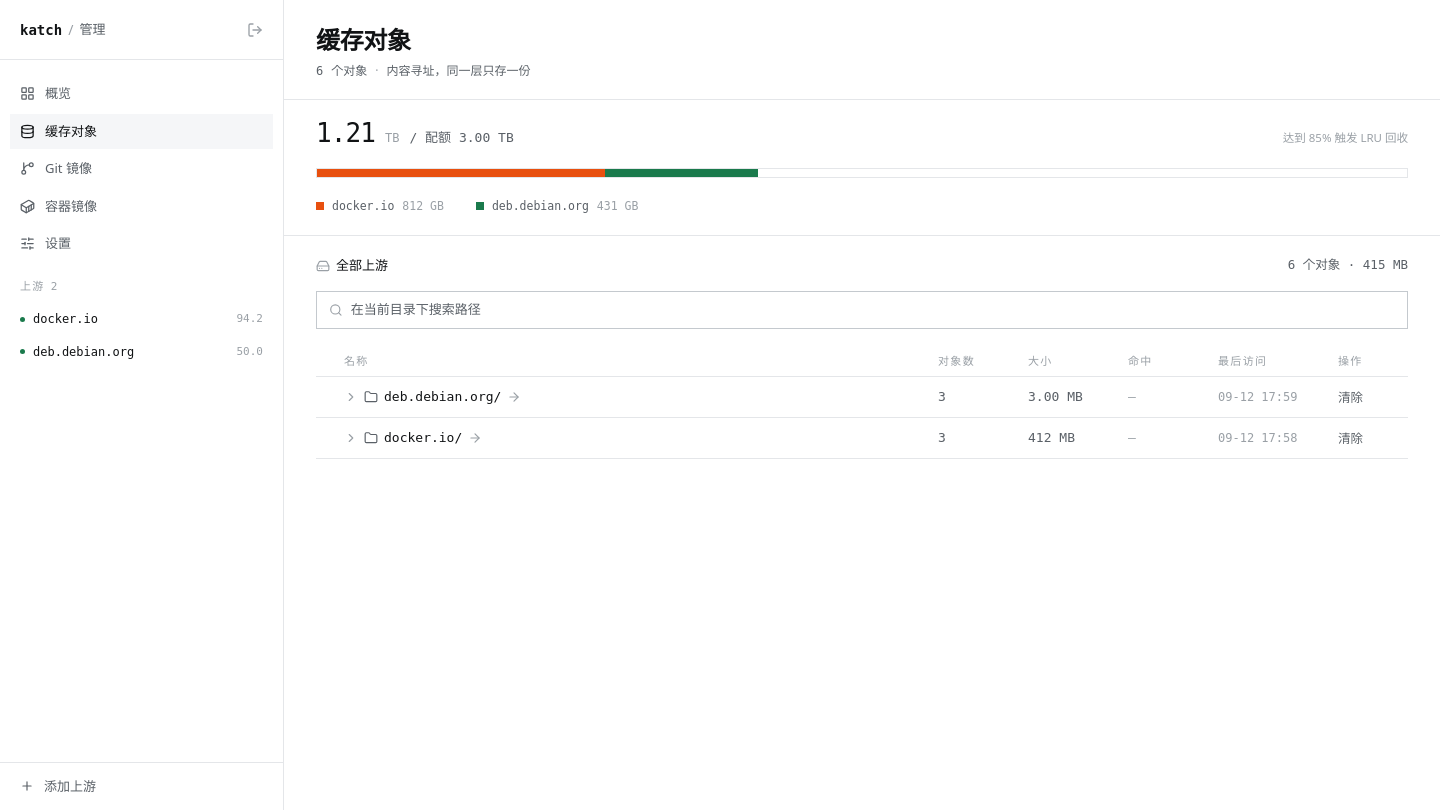
Test: 后台 · 缓存对象 › 根上列出有缓存的上游主机，点三角就地展开下一层，再点收起
Expected: the button "docker.io/" is shown, top-left (384, 429), bottom-right (462, 448)
Expected: the text "3" next to "3.00 MB" is shown, top-left (938, 389), bottom-right (946, 404)
Click the button named "展开 deb.debian.org" at x=351, y=398, box top-left (344, 390), bottom-right (358, 404)
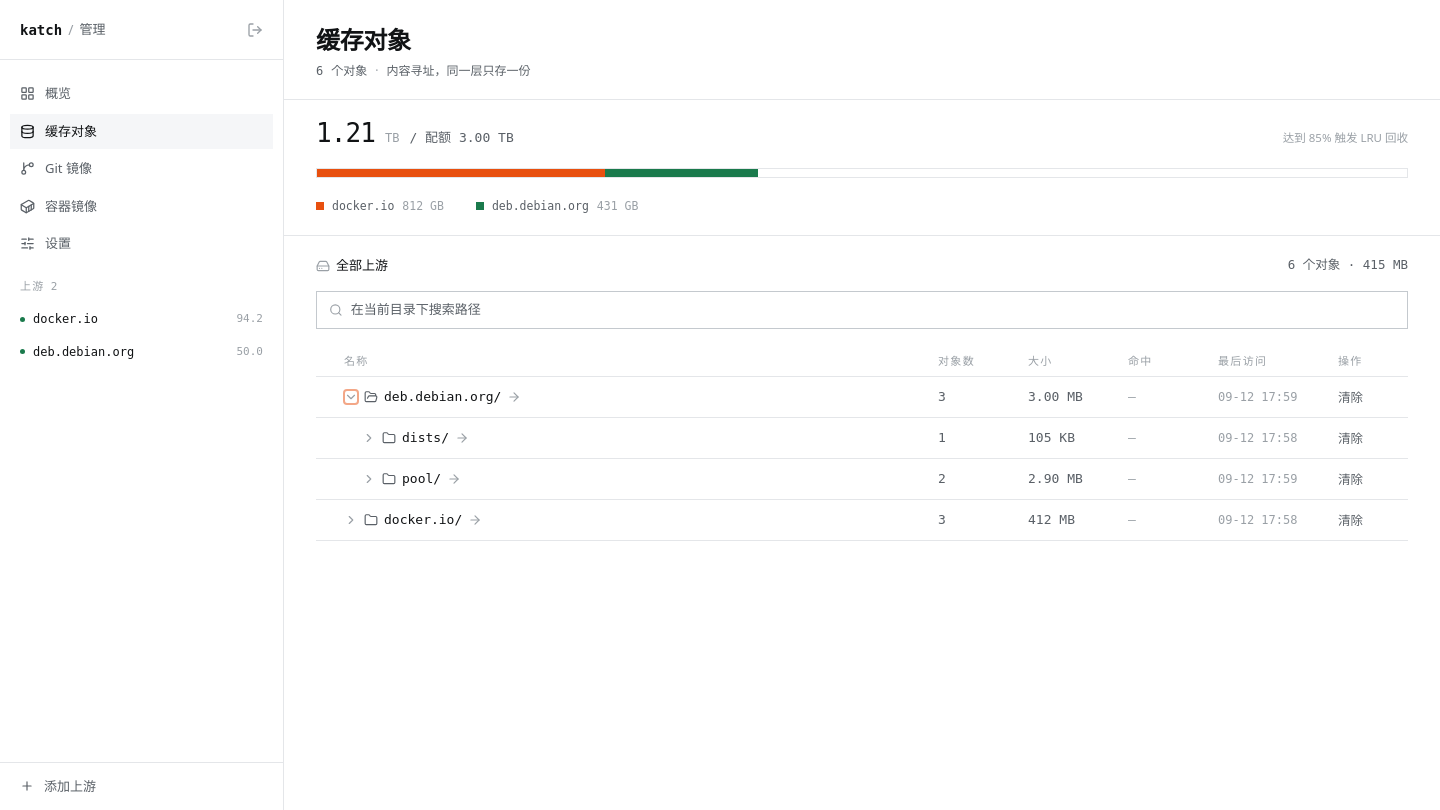
Result: the button "dists/" is shown at top-left (402, 429), bottom-right (449, 448)
Result: the button "pool/" is shown at top-left (402, 470), bottom-right (441, 489)
Click the button named "收起 deb.debian.org" at x=351, y=398, box top-left (344, 390), bottom-right (358, 404)
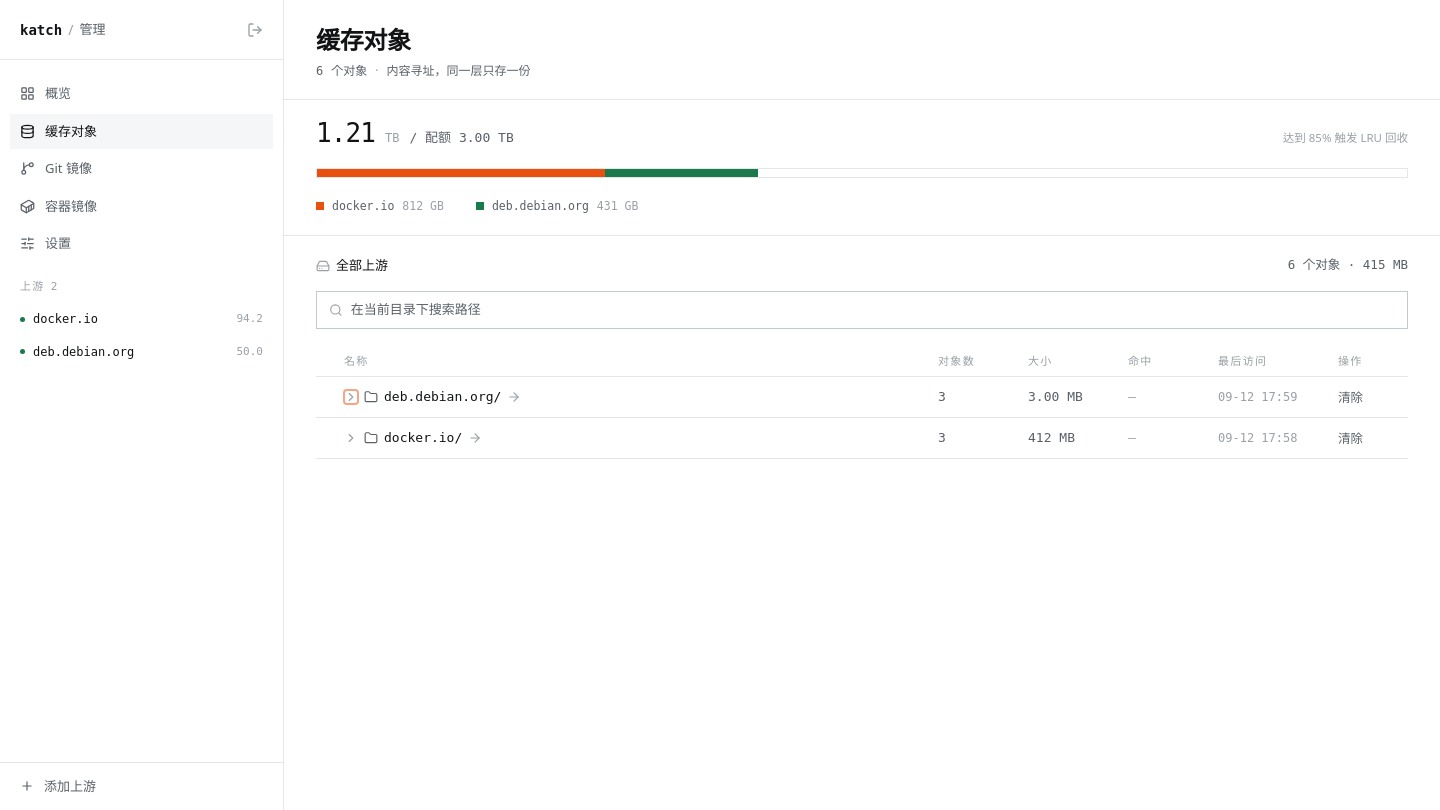
Result: the button "pool/" is gone
